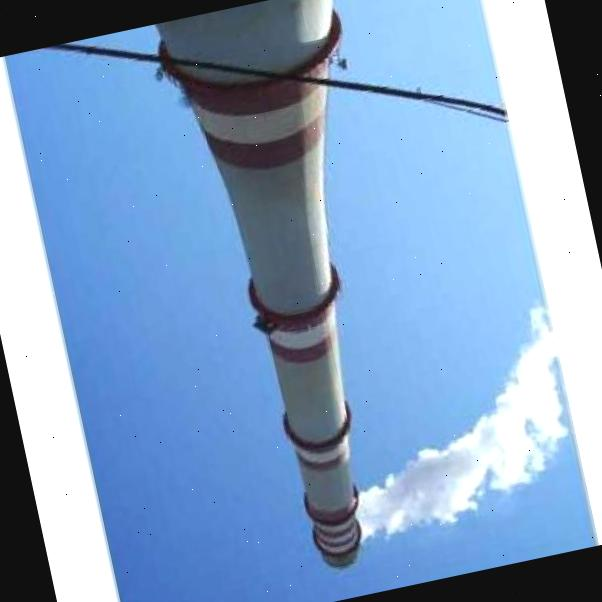smoke: (321, 329, 587, 566)
